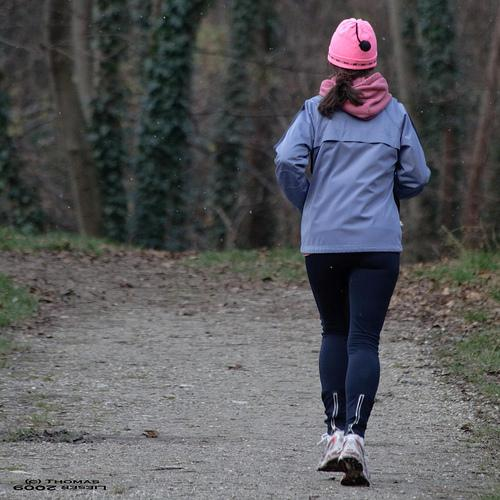person: (275, 17, 432, 488)
